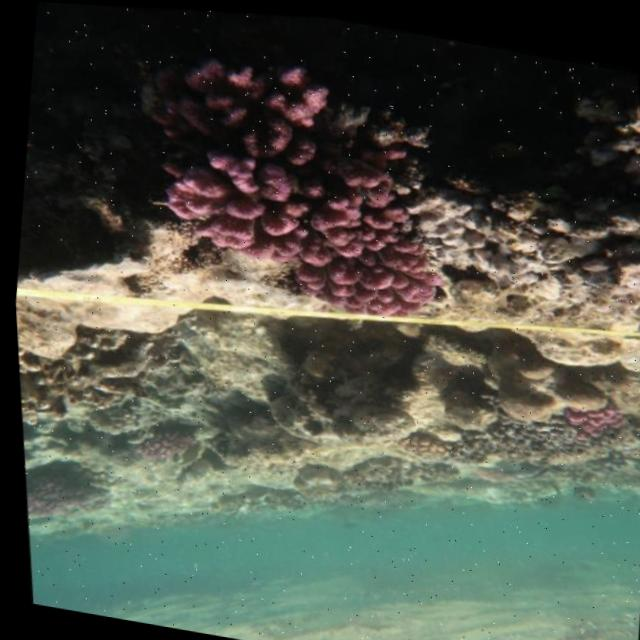Dead Coral: (13, 315, 176, 442), (467, 405, 554, 467)
Healthy Coral: (101, 19, 477, 360), (550, 387, 632, 441)
